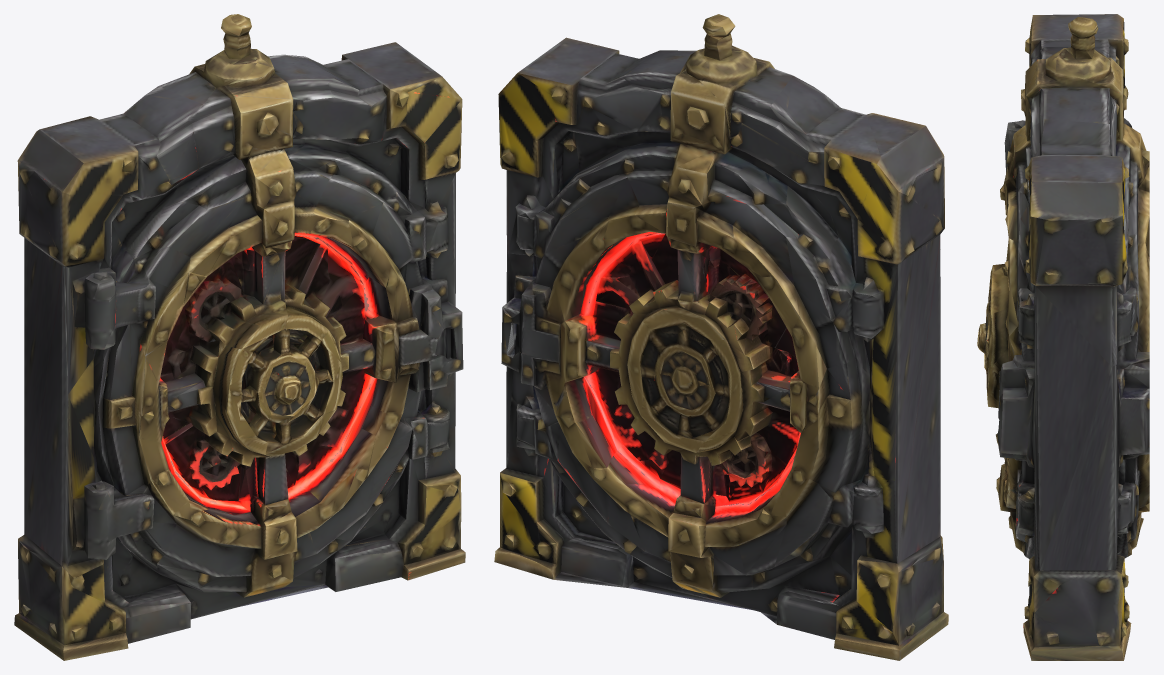
File: SM_VaultDoor_Fal.fbx
3 renders of one model, left to right at view 1: azimuth 30°, elevation 25°; view 2: azimuth 150°, elevation 25°; view 3: azimuth 270°, elevation 25°, orthographic. The views are drawn at different scales.
Visible parts, largest first — view 1: SM_VaultDoor; view 2: SM_VaultDoor; view 3: SM_VaultDoor.
Part boxes in pixels (x1,y1,x2,y2): SM_VaultDoor: (14, 14, 465, 660); SM_VaultDoor: (494, 14, 948, 660); SM_VaultDoor: (977, 14, 1149, 660).
Size of the model in its own units: 1.41 by 1.9 by 0.5421.
1 material, 1 textured.
